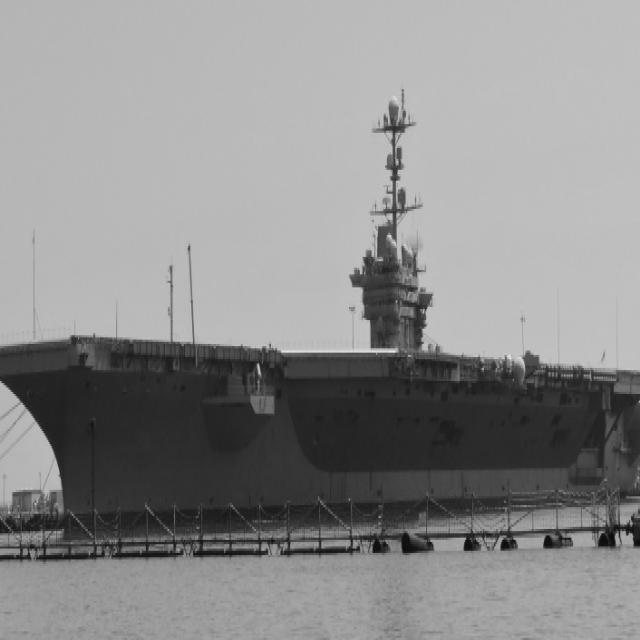Portanaves: (1, 67, 640, 546)
